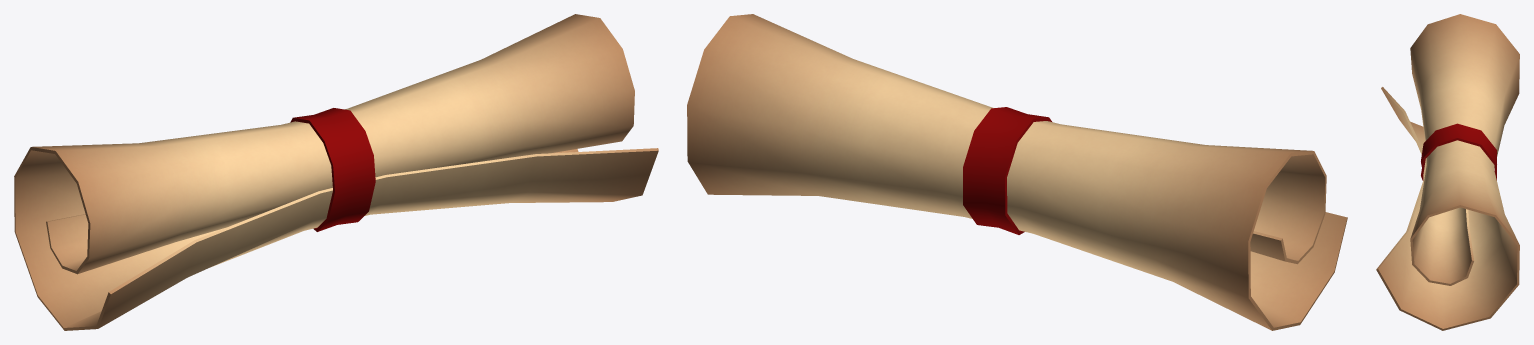
Rendered from Scroll.FBX.
The picture shows the model from 3 angles, left to right: view 1: azimuth 30°, elevation 25°; view 2: azimuth 150°, elevation 25°; view 3: azimuth 270°, elevation 25°; orthographic projection. The views are drawn at different scales.
Parts seen in each view (by area): view 1: Scroll; view 2: Scroll; view 3: Scroll.
Part boxes in pixels (x1,y1,x2,y2): Scroll: (14, 14, 658, 330); Scroll: (687, 14, 1347, 330); Scroll: (1376, 14, 1519, 330).
Size of the model in its own units: 91.79 by 28.11 by 29.11.
